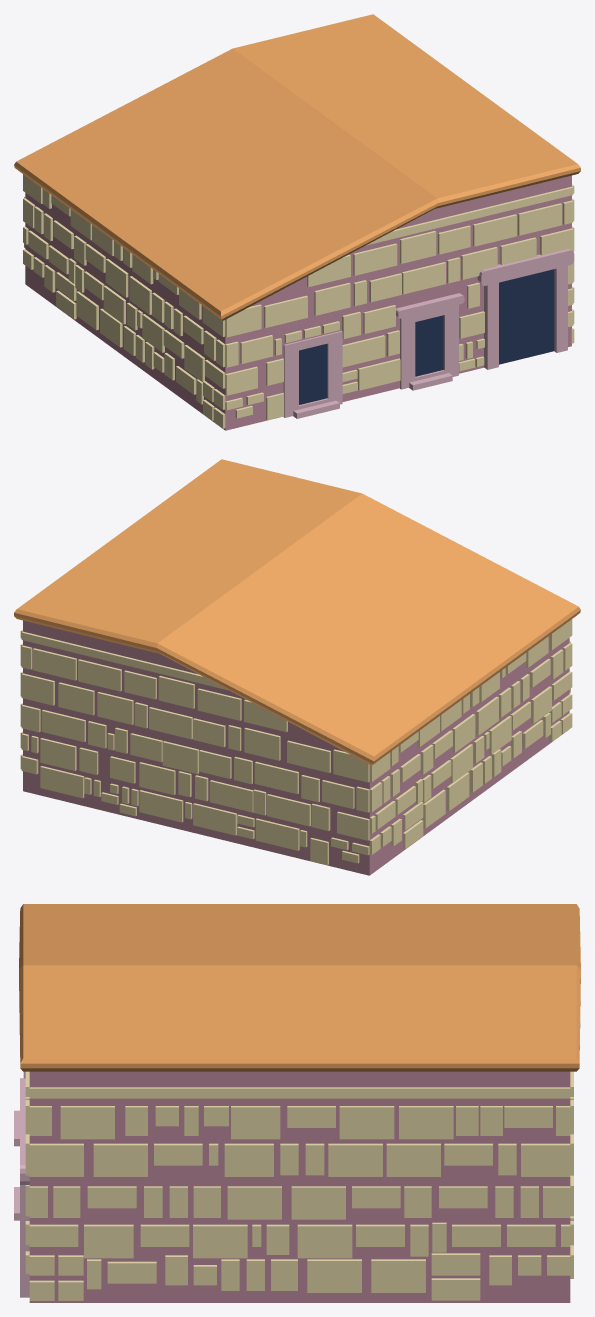
File: MOR_TEP_CASA_01.fbx
3 renders of one model, top to bottom at view 1: azimuth 30°, elevation 25°; view 2: azimuth 150°, elevation 25°; view 3: azimuth 270°, elevation 25°, orthographic. The views are drawn at different scales.
Visible parts, largest first — view 1: Mor_Tep_Casa_01_LOD0; view 2: Mor_Tep_Casa_01_LOD0; view 3: Mor_Tep_Casa_01_LOD0.
Boxes of the visible parts, bbox=[...] form: Mor_Tep_Casa_01_LOD0: bbox=[14, 14, 580, 430]; Mor_Tep_Casa_01_LOD0: bbox=[14, 459, 580, 875]; Mor_Tep_Casa_01_LOD0: bbox=[14, 904, 580, 1302].
Size of what is drawn, in the model's own units: 625 by 304 by 631.
